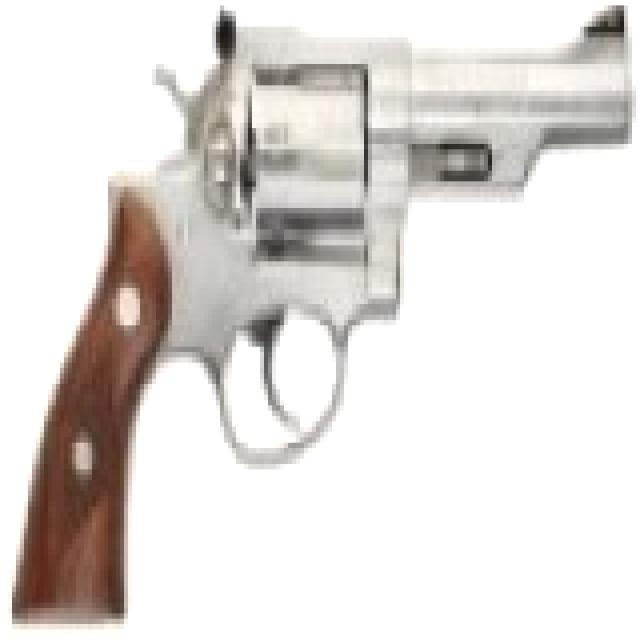pistol: (16, 0, 636, 624)
